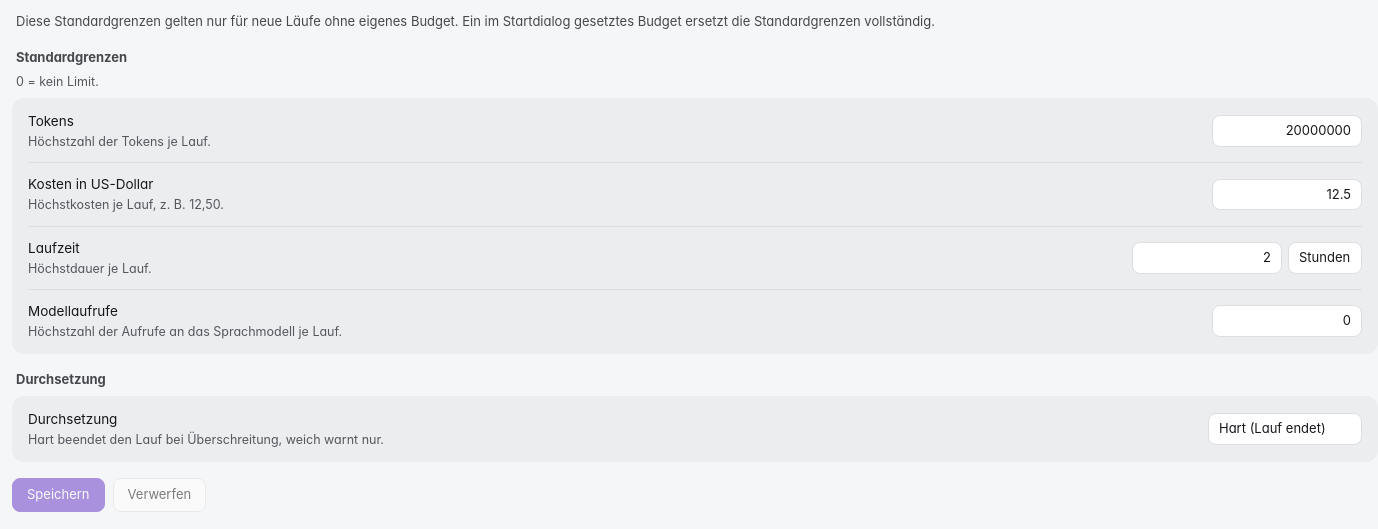
Test: SectionBudgets › Verwerfen setzt die Eingaben zurück
Replace the text in the field with id "budget-calls" with "99" at [1287, 321], box 1212,305 -> 1362,337
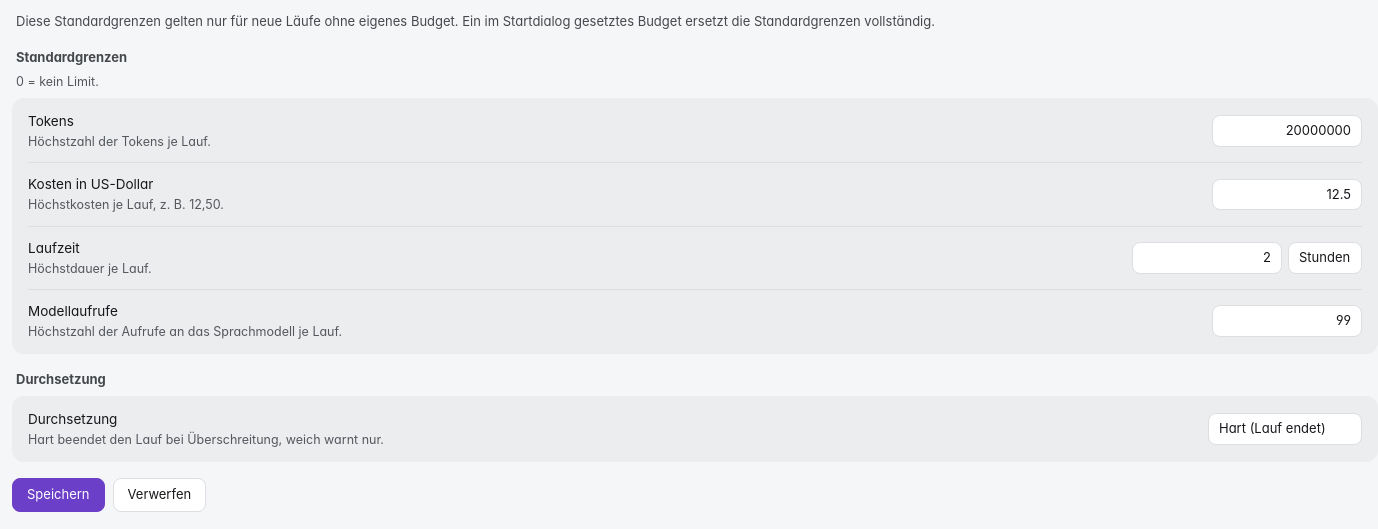
Click the button "Verwerfen".
click(159, 495)  # box 112,478 -> 206,512
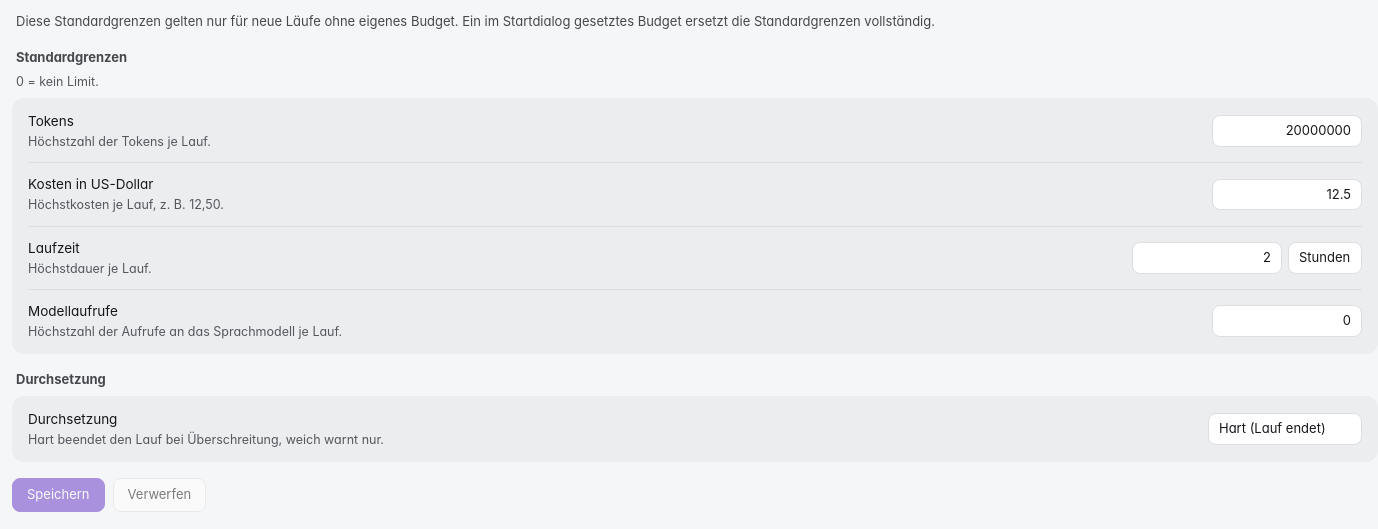
expect the field with id "budget-calls" holds "0": met, box 1212,305 -> 1362,337
